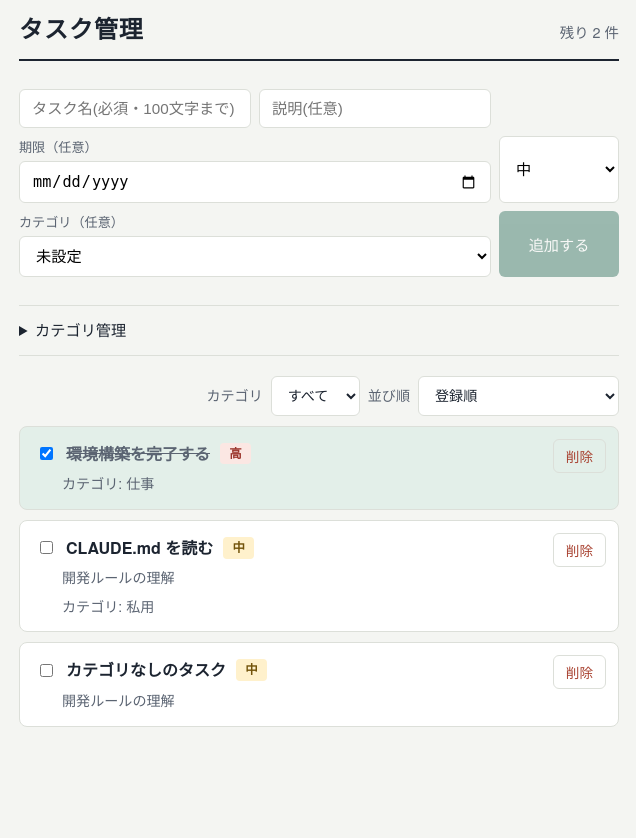
Test case: App › 追加フォームでカテゴリを選択して作成できる
The image size is (636, 838).
Expected: the text "環境構築を完了する" is shown, [66,441,210,466]
Expected: the dropdown labelled "カテゴリ（任意）" shows "未設定", [19,236,491,277]
Type "仕事の新規タスク" into the field labelled "タスク名" at (135,109), box [19,89,251,128]
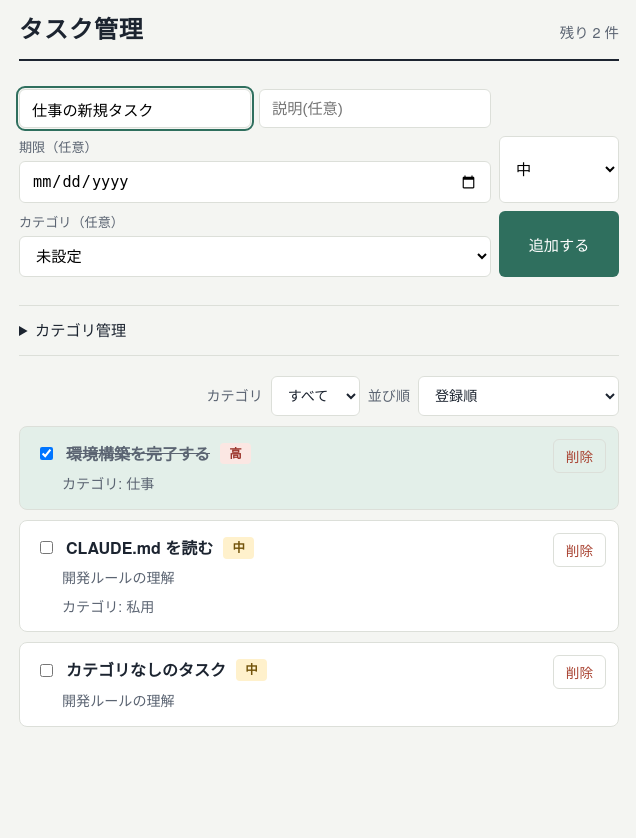
Select "仕事" in the dropdown labelled "カテゴリ（任意）" at (255,257), box [19,236,491,277]
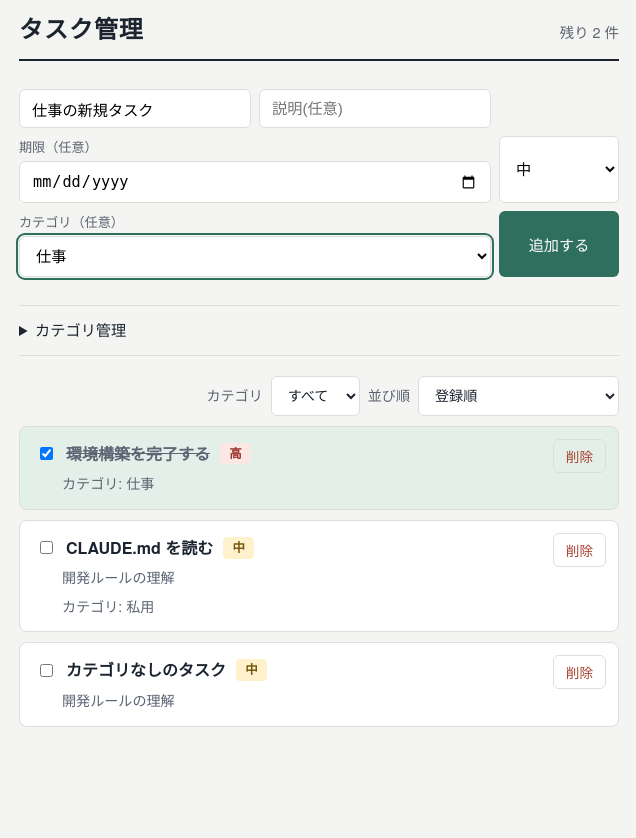
Click the button "追加する" at (559,244), box [499,211,619,277]
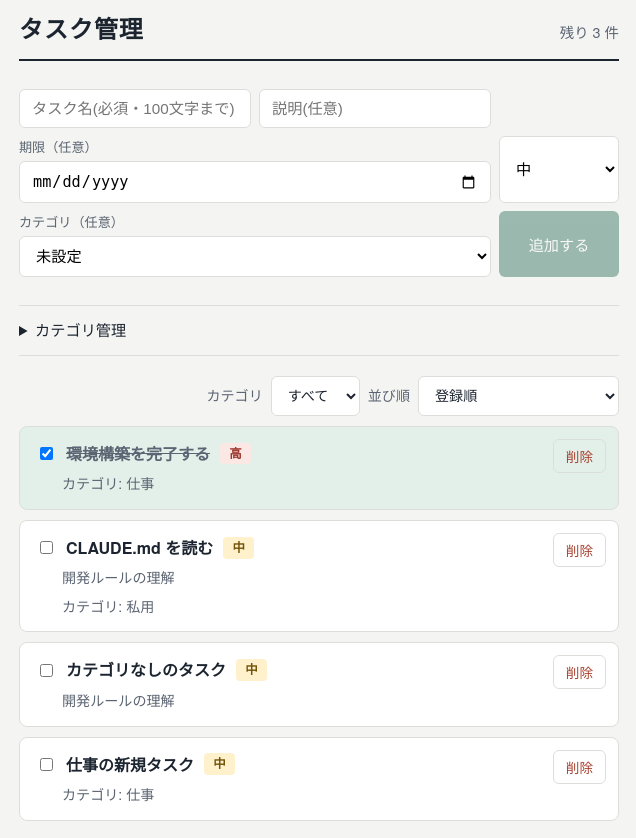
Result: the text "仕事の新規タスク" is shown at [66,752,194,777]
Result: the list item "仕事の新規タスク" shows "カテゴリ: 仕事" at [19,736,619,821]
